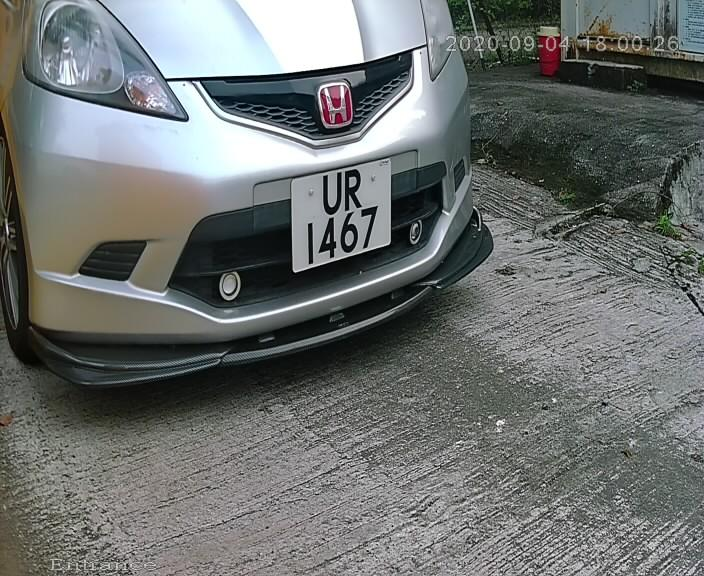Car: (7, 6, 522, 407)
License Plate: (287, 150, 400, 278)
